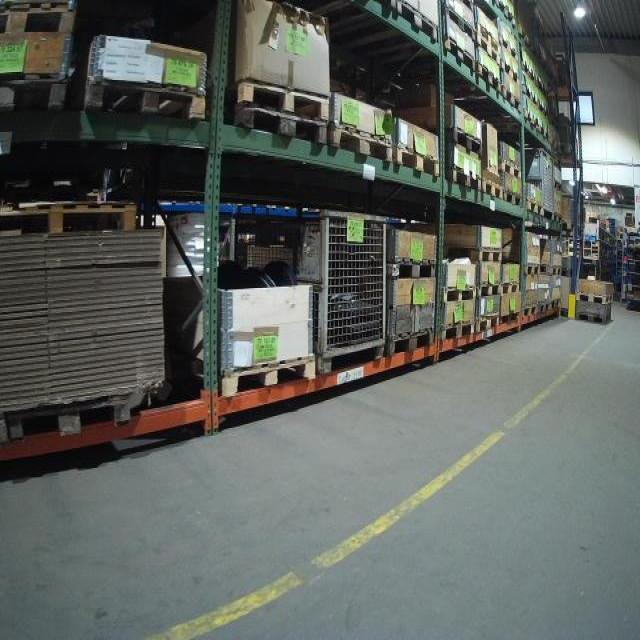pallet: (5, 392, 134, 444), (81, 76, 208, 123), (0, 200, 141, 242), (222, 351, 317, 399), (233, 80, 331, 123), (230, 106, 328, 146), (0, 69, 73, 114), (328, 121, 394, 162), (395, 0, 439, 44), (394, 142, 442, 179), (386, 326, 437, 359), (443, 242, 503, 264), (442, 37, 477, 73), (386, 256, 438, 280), (445, 127, 484, 157), (444, 7, 476, 41), (445, 165, 483, 191), (477, 62, 503, 96), (439, 319, 477, 340), (441, 285, 478, 303), (477, 34, 499, 63), (574, 292, 614, 306), (574, 310, 612, 324), (477, 312, 500, 335), (502, 59, 521, 85), (499, 159, 523, 179), (499, 36, 519, 60), (482, 179, 504, 200), (504, 89, 522, 114), (526, 196, 545, 218), (502, 189, 523, 208), (478, 282, 501, 299), (502, 280, 521, 297), (524, 263, 542, 276), (522, 304, 538, 317), (538, 299, 551, 314), (552, 213, 564, 224), (552, 266, 562, 275)
stillage: (218, 201, 395, 378)
